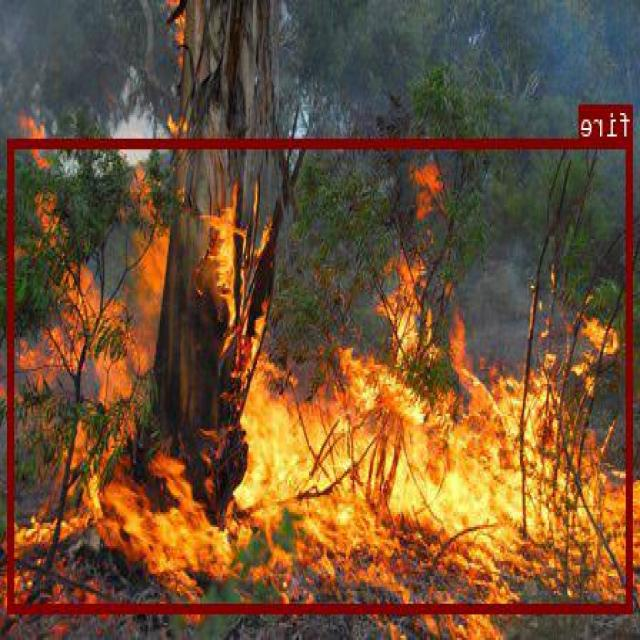fire: (9, 139, 634, 612)
